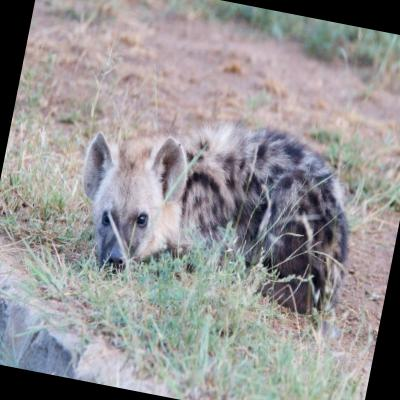hyenas: (19, 54, 369, 358)
